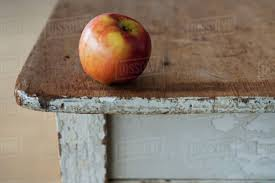apple: (80, 16, 153, 85)
